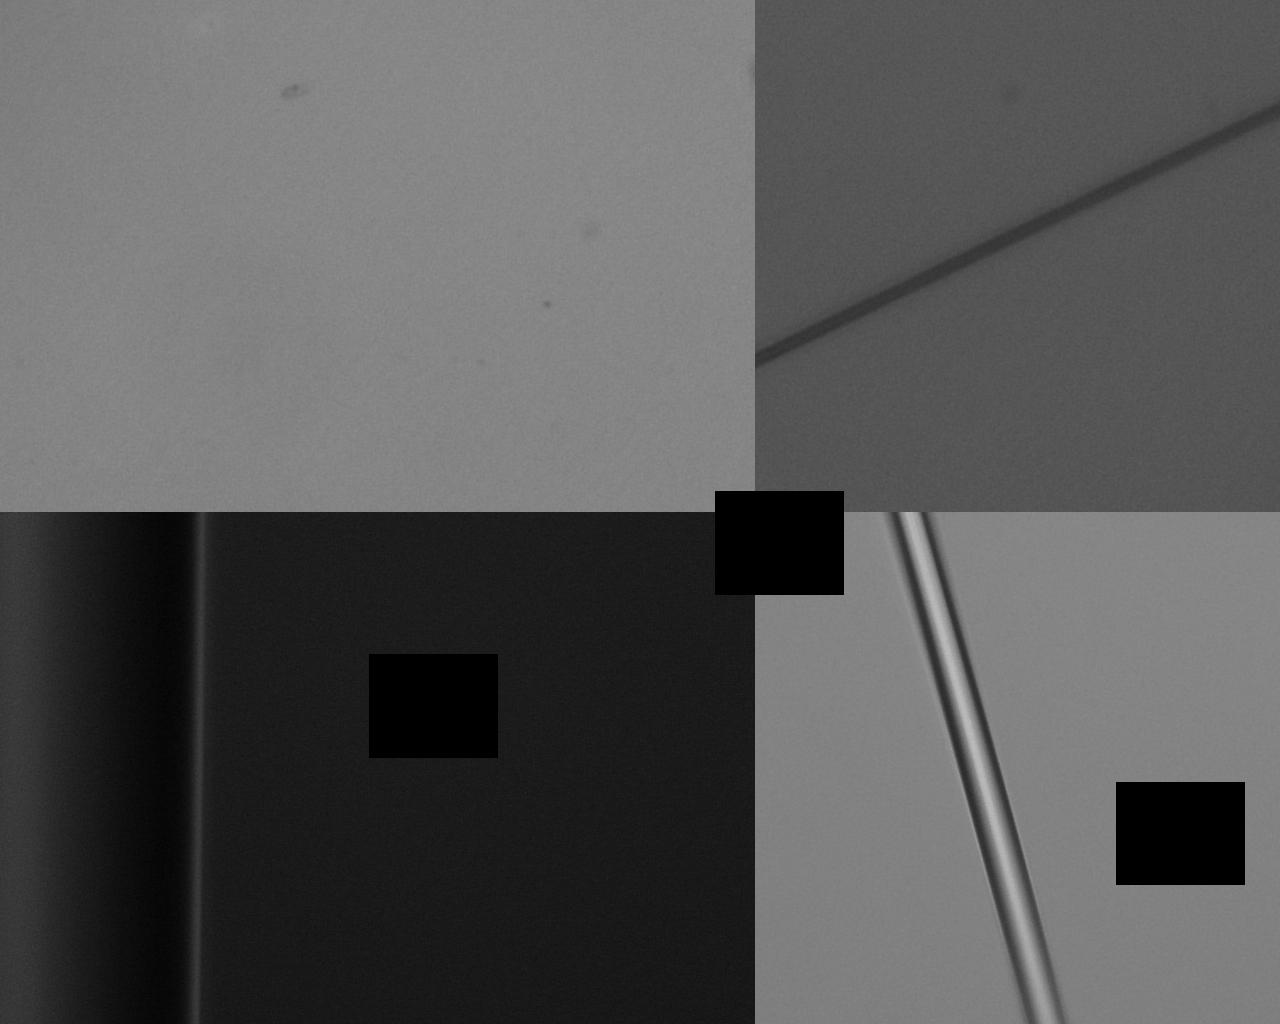fiber: (256, 583, 760, 1024), (857, 782, 1280, 988)
